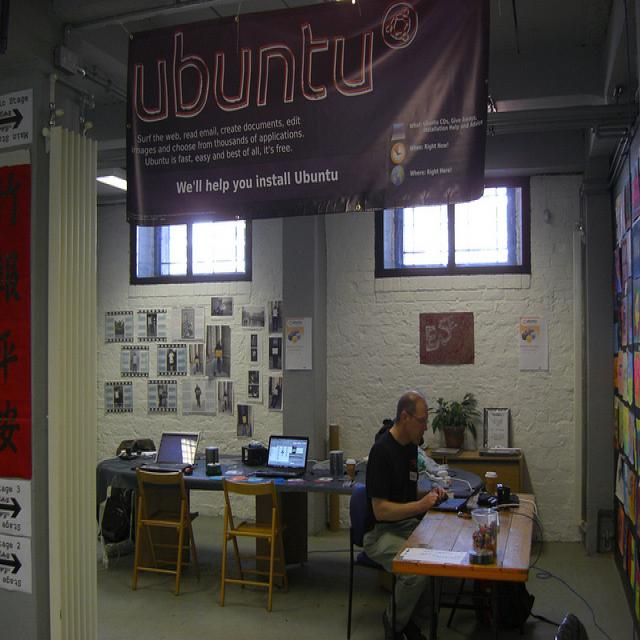chair: (220, 478, 289, 613), (132, 467, 200, 596), (346, 486, 396, 640), (117, 437, 157, 455)
dining table: (394, 469, 536, 640)
